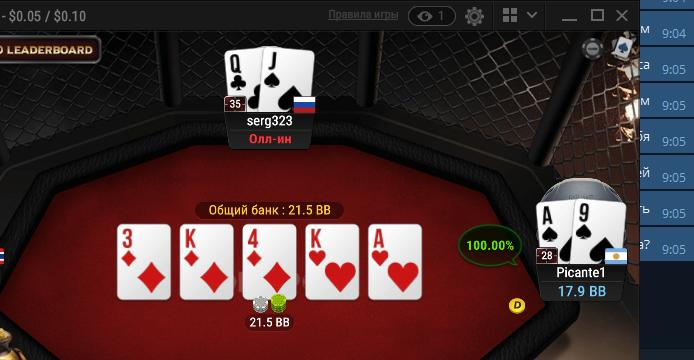3d: (118, 224, 170, 299)
4d: (244, 224, 295, 300)
9s: (573, 198, 626, 265)
Ah: (369, 226, 420, 298)
As: (537, 202, 572, 263)
Js: (261, 46, 314, 112)
Kd: (180, 224, 233, 299)
Kh: (306, 224, 358, 297)
Qc: (223, 49, 262, 112)
